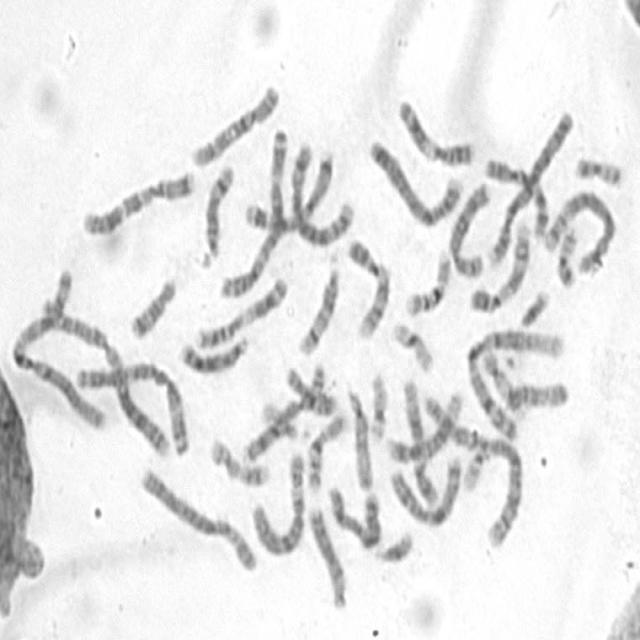A1: (10, 264, 110, 433), (463, 318, 567, 441)
A2: (30, 287, 186, 458), (419, 384, 525, 550)
A3: (217, 121, 291, 299), (70, 352, 188, 458)
B4: (483, 101, 576, 269), (364, 129, 466, 229)
B5: (286, 134, 356, 249), (539, 181, 616, 275)
C10: (186, 75, 282, 169), (480, 150, 551, 240)
C11: (190, 267, 290, 351), (392, 90, 478, 168)
C12: (382, 384, 465, 466), (398, 372, 441, 508)
C6: (136, 458, 260, 574), (246, 443, 308, 557)
C7: (76, 160, 199, 238), (240, 140, 336, 234)
C8: (238, 356, 328, 465), (444, 171, 494, 280)
C9: (466, 212, 534, 314), (342, 230, 392, 341)
D13: (302, 498, 349, 611), (176, 326, 250, 376)
D14: (294, 249, 343, 358), (198, 154, 236, 264)
D15: (344, 381, 376, 492), (501, 373, 571, 413)
E16: (302, 402, 349, 493), (401, 240, 453, 318)
E17: (205, 429, 273, 488), (479, 342, 527, 416)
E18: (124, 268, 178, 341), (282, 358, 340, 418)
F19: (386, 313, 436, 374), (364, 364, 390, 443)
F20: (569, 147, 625, 188), (552, 217, 580, 289)
G21: (369, 522, 415, 564), (516, 281, 552, 330)
G22: (257, 393, 299, 442), (459, 436, 492, 493)
X: (385, 447, 464, 529), (323, 476, 384, 552)
